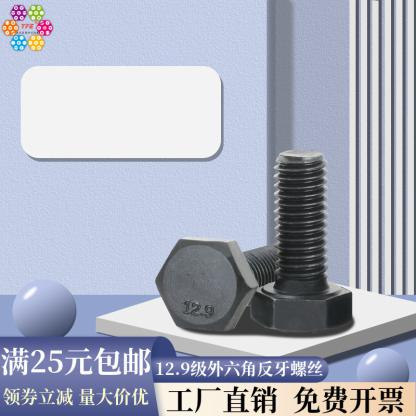FOD: (245, 149, 355, 334), (154, 235, 286, 334)
